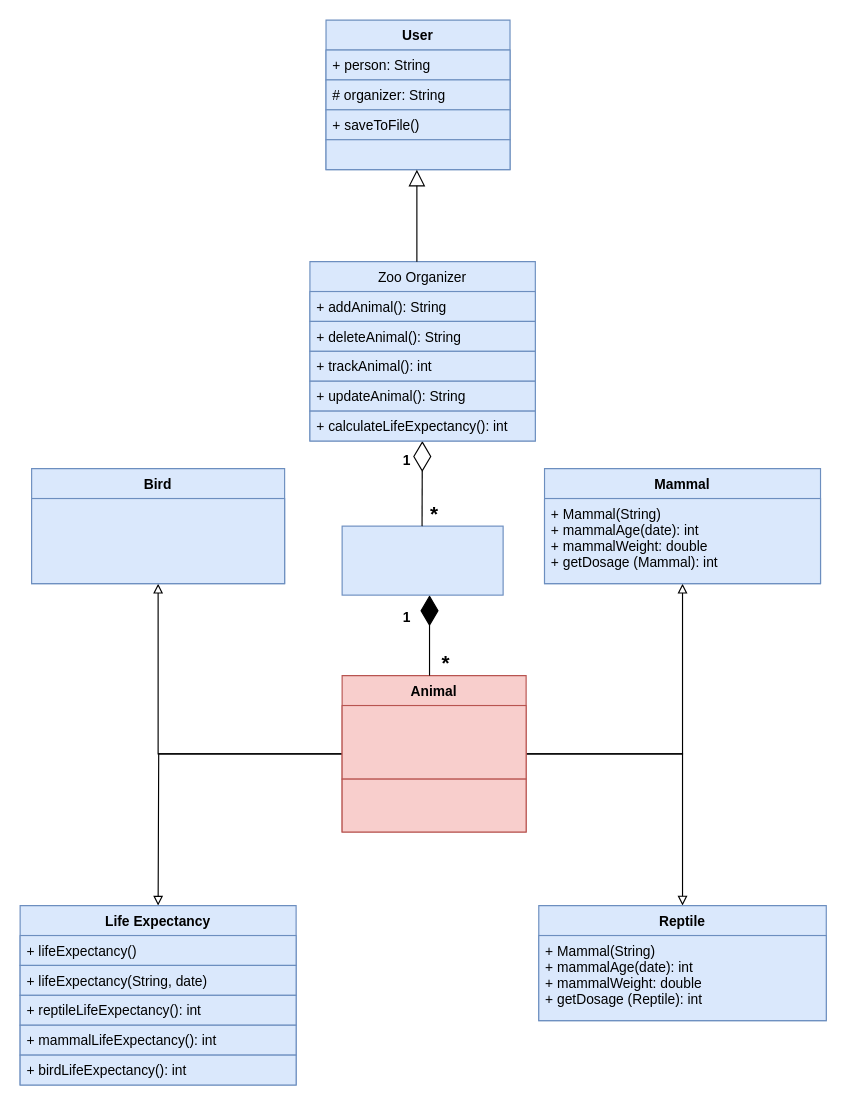
This 846x1109 diagram has some shape labels left out. The shapes that lost their labels are listed below. From the top down, each one's centre as x and y in pixels, then its label:
At pixel 417 154: "+ openToFile()".
At pixel 157 540: "+ Bird(String) + birdAge(date): int + birdWeight: double + getDosage (Bird): int".
At pixel 422 560: "Zoo + animals: vector".
At pixel 433 741: "+ species: String + name: String + birthdate: date + weight: double".
At pixel 433 805: "+ getDosage () + getFeedSchedule ()".
